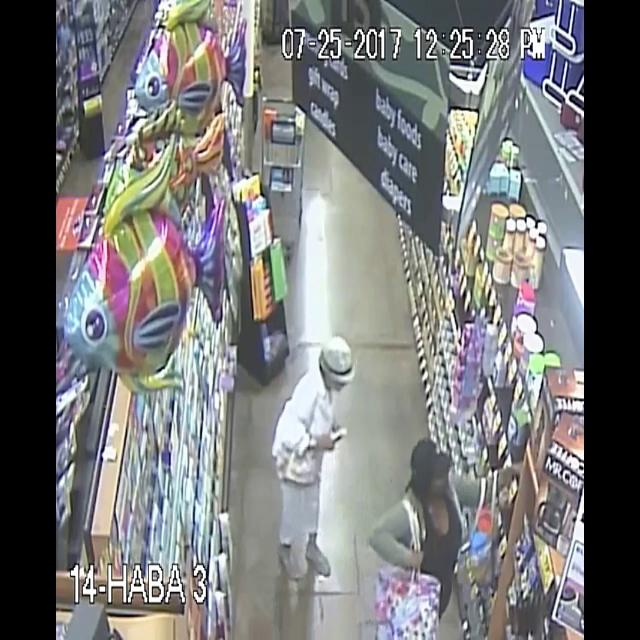normal: (267, 284, 358, 610)
shoplifting: (363, 421, 526, 640)
